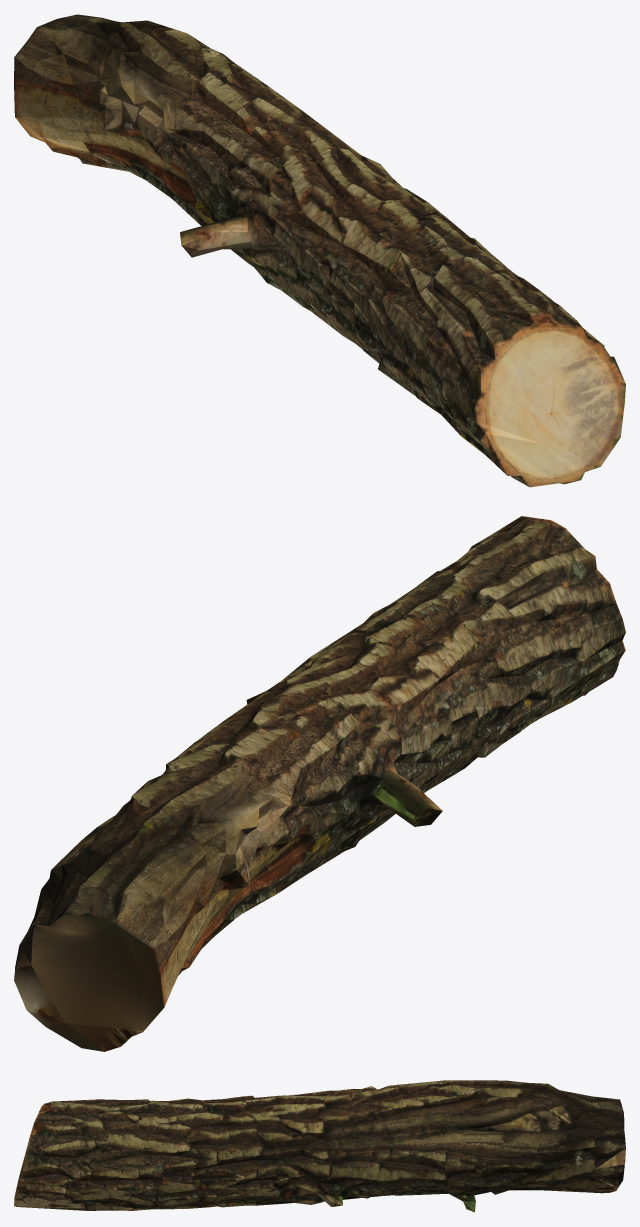
Rendered from stump_6_final.obj.
3 views of the same model, one above another, from view 1: azimuth 30°, elevation 25°; view 2: azimuth 150°, elevation 25°; view 3: azimuth 270°, elevation 25° (orthographic). The views are drawn at different scales.
Size of the model in its own units: 1.05 by 0.8781 by 4.17.
Materials: 1 (1 with a texture image).
